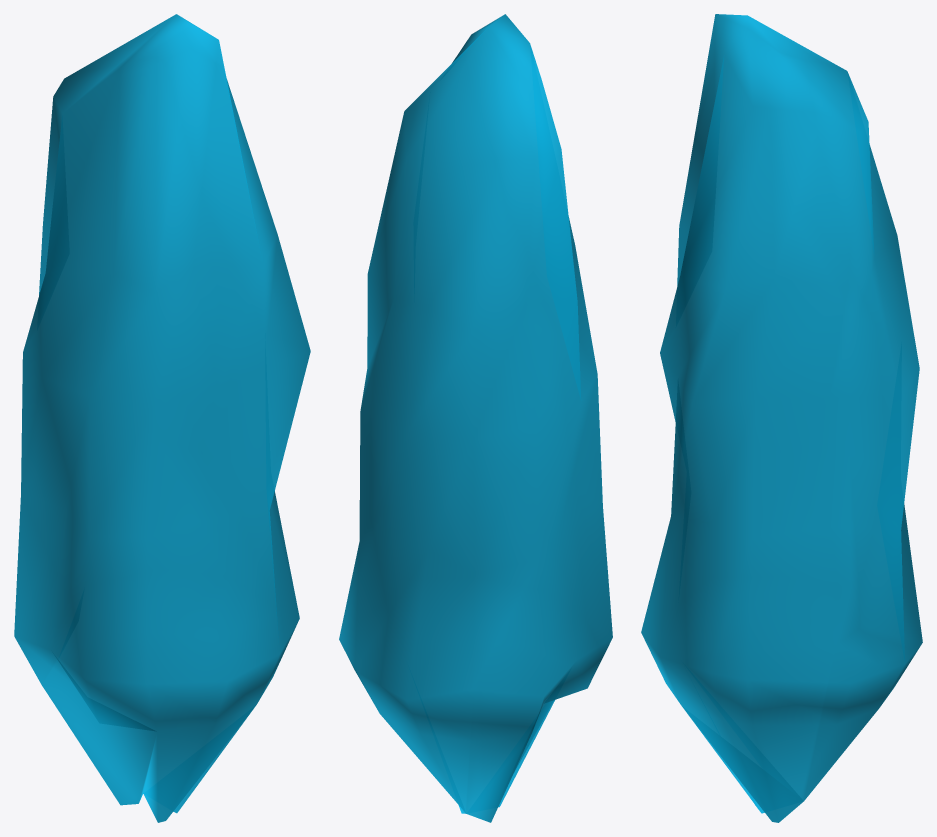
File: 3D_Crystal2.fbx
The picture shows the model from 3 angles, left to right: view 1: azimuth 30°, elevation 25°; view 2: azimuth 150°, elevation 25°; view 3: azimuth 270°, elevation 25°; orthographic projection. The views are drawn at different scales.
Parts seen in each view (by area): view 1: Cone; view 2: Cone; view 3: Cone.
Part boxes in pixels (x1,y1,x2,y2): Cone: [14, 14, 310, 822]; Cone: [339, 14, 612, 822]; Cone: [641, 14, 922, 822].
Bounding box in the file's own units: 53.16 × 187 × 59.43.
